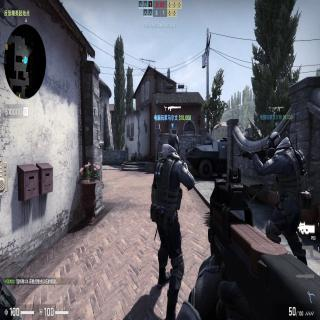CT-Head: (266, 133, 281, 154), (168, 134, 181, 155)
